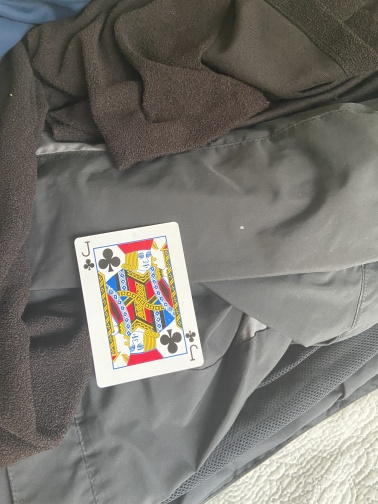jack: (73, 220, 205, 390)
